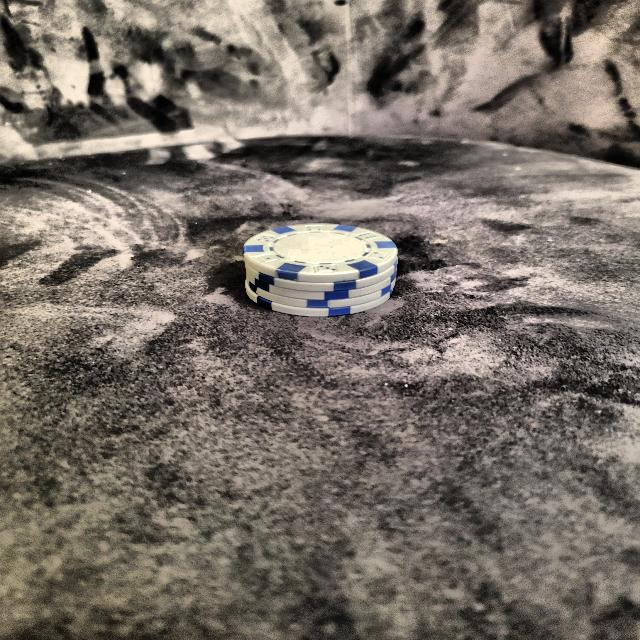Chip: (233, 199, 408, 338)
